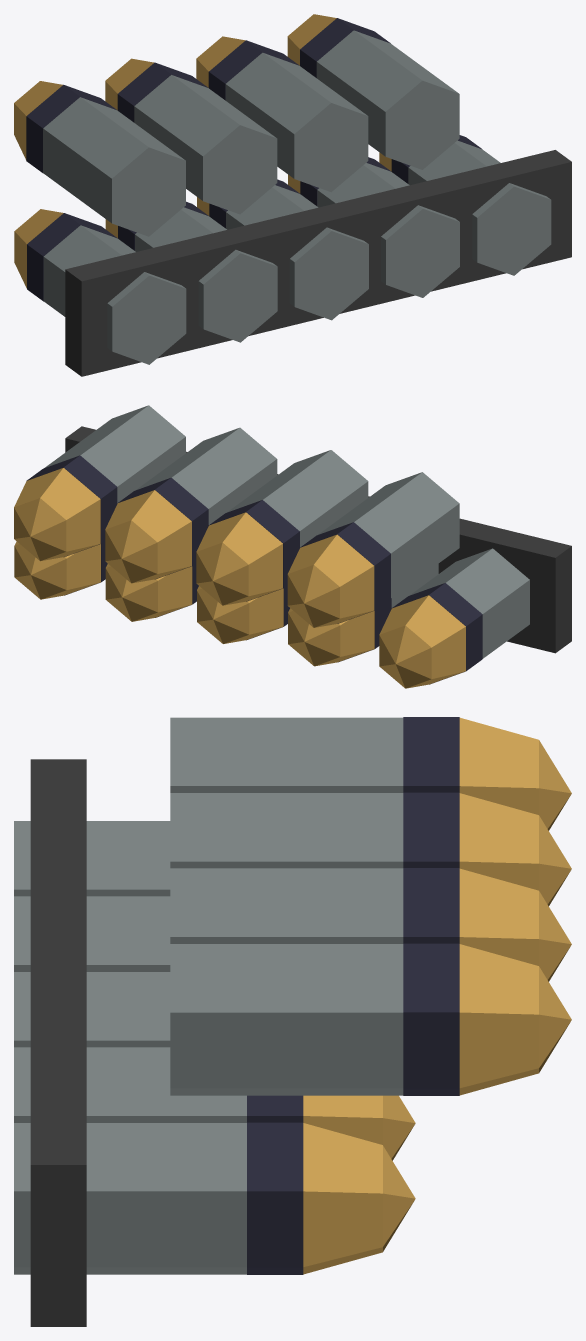
Rendered from ce_ammo_grenade_dp_b.obj.
3 renders of one model, top to bottom at view 1: azimuth 30°, elevation 25°; view 2: azimuth 150°, elevation 25°; view 3: azimuth 270°, elevation 25°, orthographic. The views are drawn at different scales.
Visible parts, largest first — view 1: ce_ammo_grenade_dp_b_36, ce_ammo_grenade_dp_b_20, ce_ammo_grenade_dp_b_28, ce_ammo_grenade_dp_b_24, ce_ammo_grenade_dp_b_32, ce_ammo_grenade_dp_b_0, ce_ammo_grenade_dp_b_16, ce_ammo_grenade_dp_b_8, ce_ammo_grenade_dp_b_4, ce_ammo_grenade_dp_b_12, ce_ammo_grenade_dp_b_21, ce_ammo_grenade_dp_b_1 (+8 smaller); view 2: ce_ammo_grenade_dp_b_20, ce_ammo_grenade_dp_b_36, ce_ammo_grenade_dp_b_28, ce_ammo_grenade_dp_b_24, ce_ammo_grenade_dp_b_32, ce_ammo_grenade_dp_b_0, ce_ammo_grenade_dp_b_22, ce_ammo_grenade_dp_b_30, ce_ammo_grenade_dp_b_34, ce_ammo_grenade_dp_b_2, ce_ammo_grenade_dp_b_26, ce_ammo_grenade_dp_b_3 (+19 smaller); view 3: ce_ammo_grenade_dp_b_32, ce_ammo_grenade_dp_b_36, ce_ammo_grenade_dp_b_16, ce_ammo_grenade_dp_b_28, ce_ammo_grenade_dp_b_20, ce_ammo_grenade_dp_b_24, ce_ammo_grenade_dp_b_34, ce_ammo_grenade_dp_b_18, ce_ammo_grenade_dp_b_12, ce_ammo_grenade_dp_b_33, ce_ammo_grenade_dp_b_17, ce_ammo_grenade_dp_b_4 (+16 smaller).
Part boxes in pixels (x1,y1,x2,y2): ce_ammo_grenade_dp_b_36: [65, 150, 571, 376]; ce_ammo_grenade_dp_b_20: [43, 97, 185, 236]; ce_ammo_grenade_dp_b_28: [225, 52, 368, 192]; ce_ammo_grenade_dp_b_24: [134, 75, 277, 214]; ce_ammo_grenade_dp_b_32: [316, 30, 459, 169]; ce_ammo_grenade_dp_b_0: [43, 225, 186, 364]; ce_ammo_grenade_dp_b_16: [408, 140, 551, 275]; ce_ammo_grenade_dp_b_8: [226, 185, 368, 320]; ce_ammo_grenade_dp_b_4: [135, 207, 277, 342]; ce_ammo_grenade_dp_b_12: [317, 162, 459, 297]; ce_ammo_grenade_dp_b_21: [26, 84, 116, 172]; ce_ammo_grenade_dp_b_1: [27, 213, 117, 301]; ce_ammo_grenade_dp_b_20: [318, 472, 459, 597]; ce_ammo_grenade_dp_b_36: [65, 426, 571, 653]; ce_ammo_grenade_dp_b_28: [135, 427, 277, 524]; ce_ammo_grenade_dp_b_24: [226, 450, 368, 547]; ce_ammo_grenade_dp_b_32: [44, 405, 185, 503]; ce_ammo_grenade_dp_b_0: [409, 548, 529, 658]; ce_ammo_grenade_dp_b_22: [288, 534, 374, 627]; ce_ammo_grenade_dp_b_30: [105, 490, 191, 583]; ce_ammo_grenade_dp_b_34: [14, 468, 100, 560]; ce_ammo_grenade_dp_b_2: [379, 595, 465, 688]; ce_ammo_grenade_dp_b_26: [196, 512, 282, 605]; ce_ammo_grenade_dp_b_3: [379, 625, 431, 688]; ce_ammo_grenade_dp_b_32: [170, 944, 403, 1095]; ce_ammo_grenade_dp_b_36: [30, 759, 86, 1326]; ce_ammo_grenade_dp_b_16: [14, 1123, 246, 1274]; ce_ammo_grenade_dp_b_28: [170, 868, 403, 943]; ce_ammo_grenade_dp_b_20: [170, 717, 403, 792]; ce_ammo_grenade_dp_b_24: [170, 793, 403, 868]; ce_ammo_grenade_dp_b_34: [459, 944, 538, 1095]; ce_ammo_grenade_dp_b_18: [303, 1123, 382, 1274]; ce_ammo_grenade_dp_b_12: [14, 1047, 246, 1122]; ce_ammo_grenade_dp_b_33: [403, 943, 459, 1095]; ce_ammo_grenade_dp_b_17: [247, 1122, 303, 1274]; ce_ammo_grenade_dp_b_4: [14, 896, 170, 971].
Size of the model in its own units: 0.86 by 0.2904 by 0.5.
